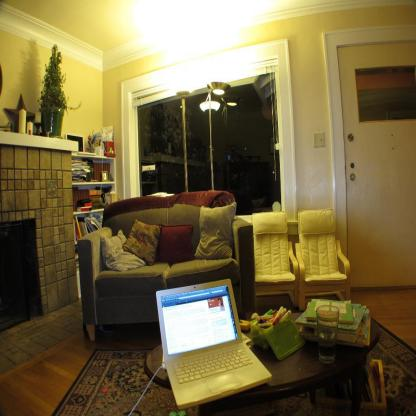board: (152, 285, 270, 396)
